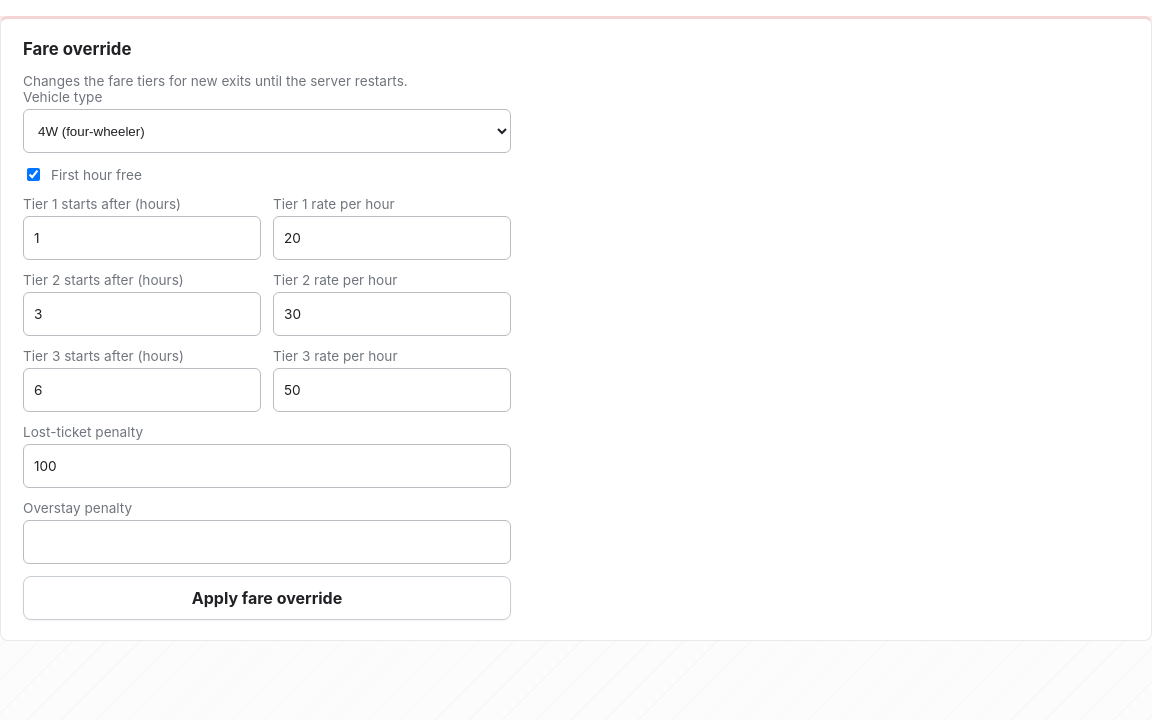
Fare override form (VPS-DEV-002) › rejects tiers whose start hours do not increase
Replace the text in the number field labelled "Tier 2 starts after (hours)" with "1": {"x": 142, "y": 314} [23,292,261,336]
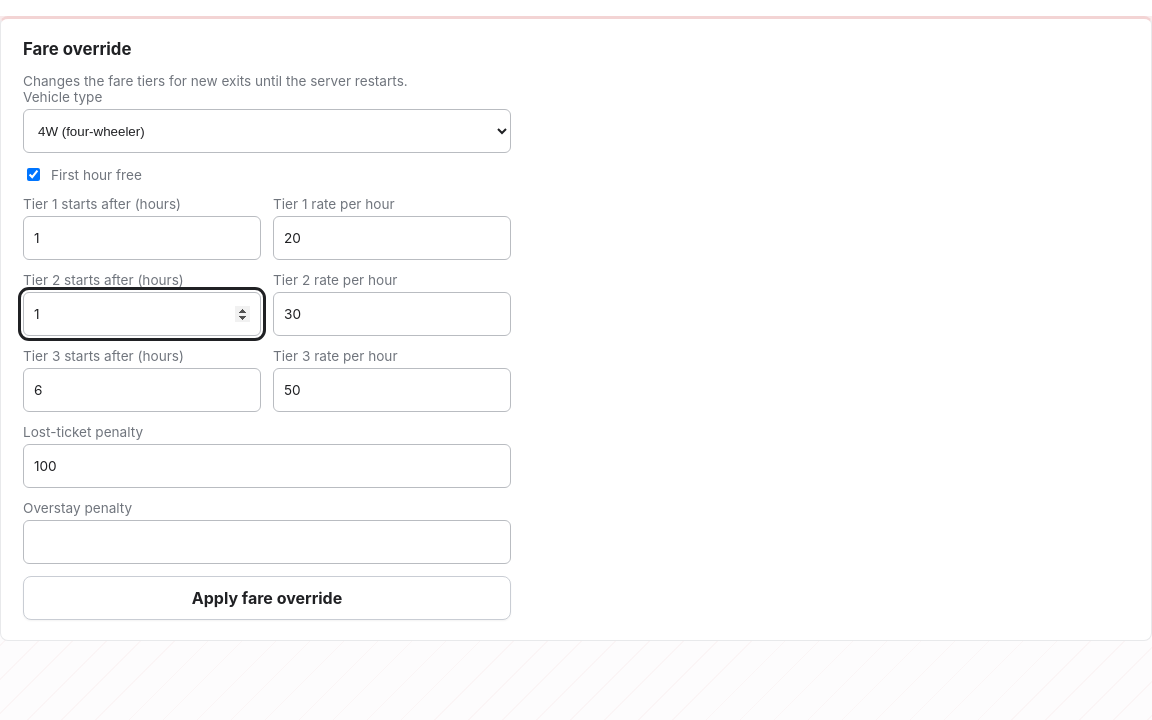
Click the button "Apply fare override": {"x": 267, "y": 598} [23,576,511,620]
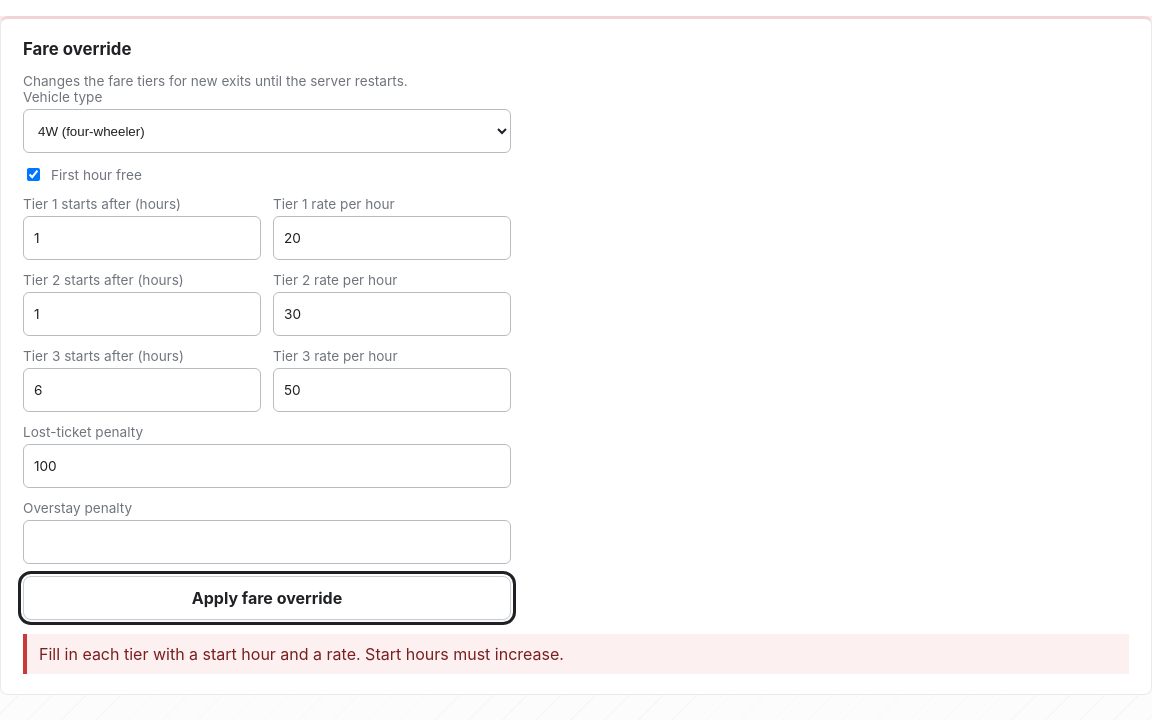
Now the message shows "Start hours must increase", box [39,644,564,664]
